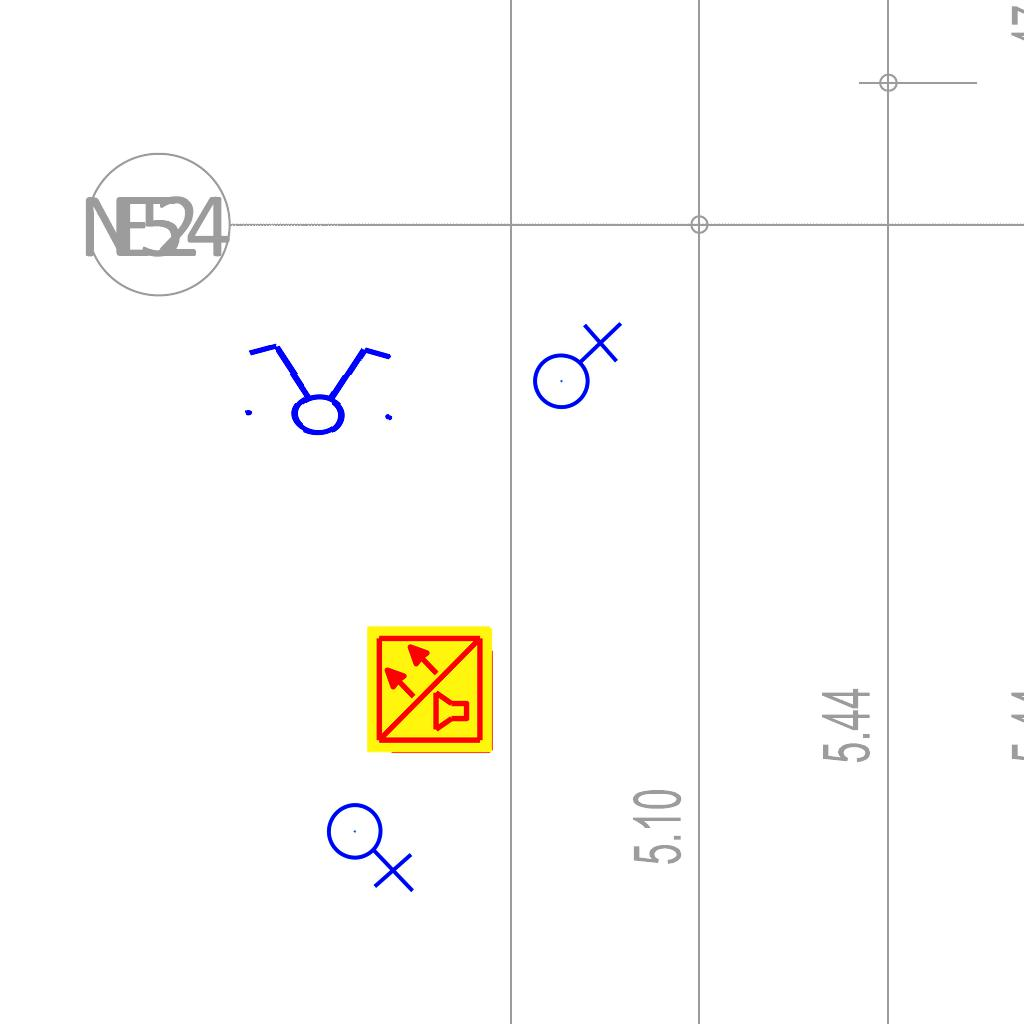Elektroanschluss_allgemein_230V_Geraeteanschlussdose_230V: (325, 794, 419, 893), (524, 317, 623, 411)
OKW_Multisensormelder_(Kombination_optischer_Rauch-Kahlenmonoxid_Waerme-Melder): (364, 623, 496, 755)
Serienschalter: (232, 338, 404, 440)
